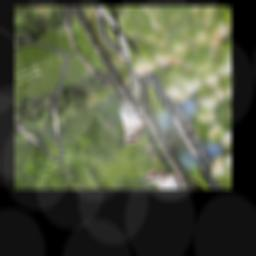Cuckoo: (66, 31, 175, 152)
